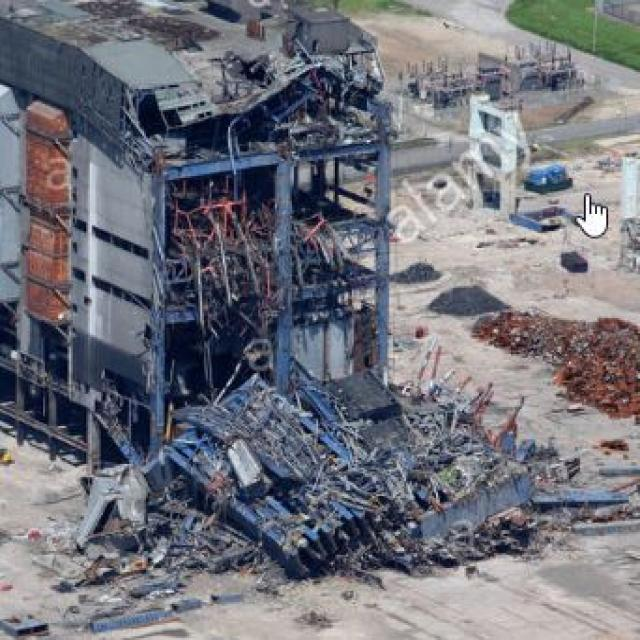collapsed_building: (0, 6, 391, 542)
